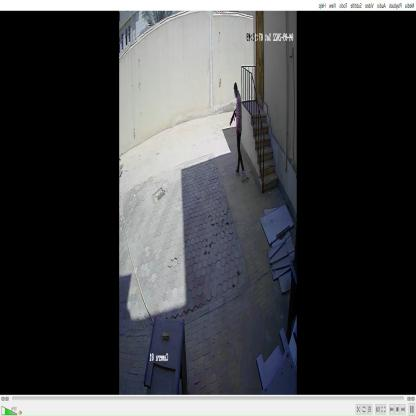handgun: (224, 106, 238, 130)
